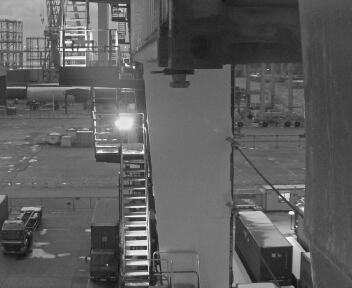twist_lock_1: (160, 61, 200, 96)
